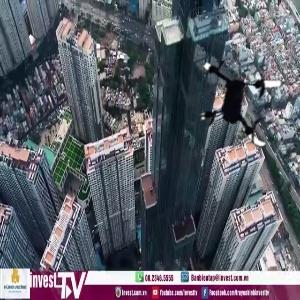drone: (192, 49, 297, 154)
